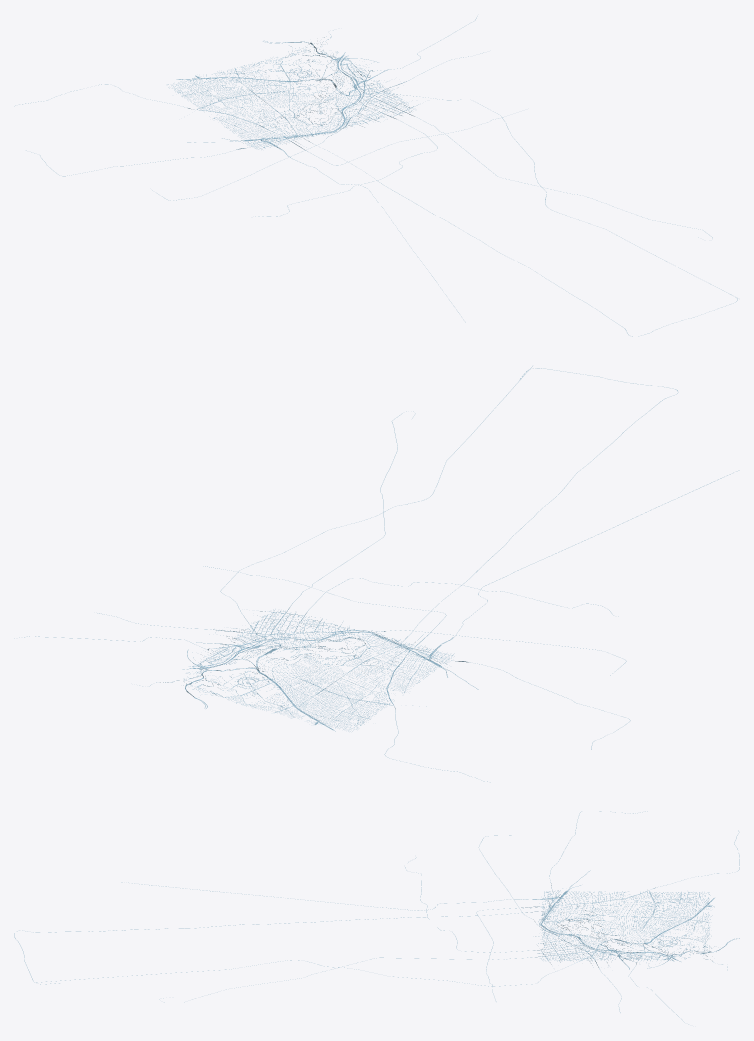
The model's file is roads.glb.
3 views of the same model, one above another, from view 1: azimuth 30°, elevation 25°; view 2: azimuth 150°, elevation 25°; view 3: azimuth 270°, elevation 25° (orthographic). The views are drawn at different scales.
Visible parts, largest first — view 1: roads; view 2: roads; view 3: roads.
Part boxes in pixels (x1,y1,x2,y2): roads: [14, 16, 737, 336]; roads: [14, 366, 739, 782]; roads: [14, 811, 739, 1024].
Size of the model in its own units: 20165 by 374 by 28646.
